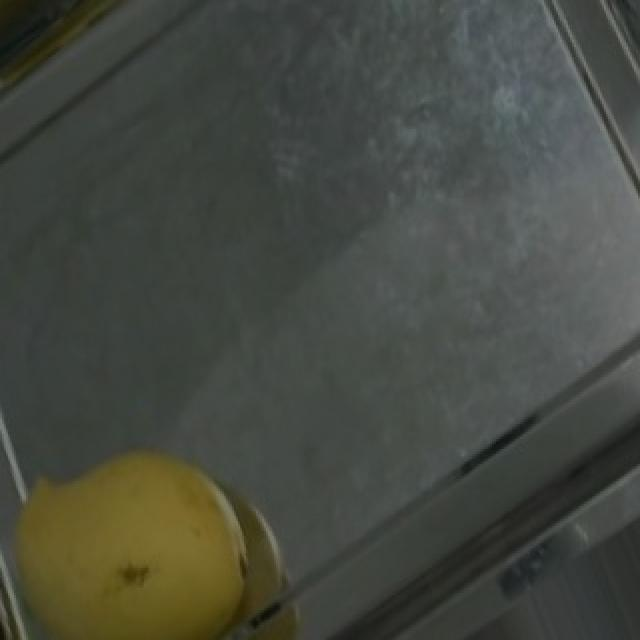fruit: (0, 399, 330, 640)
